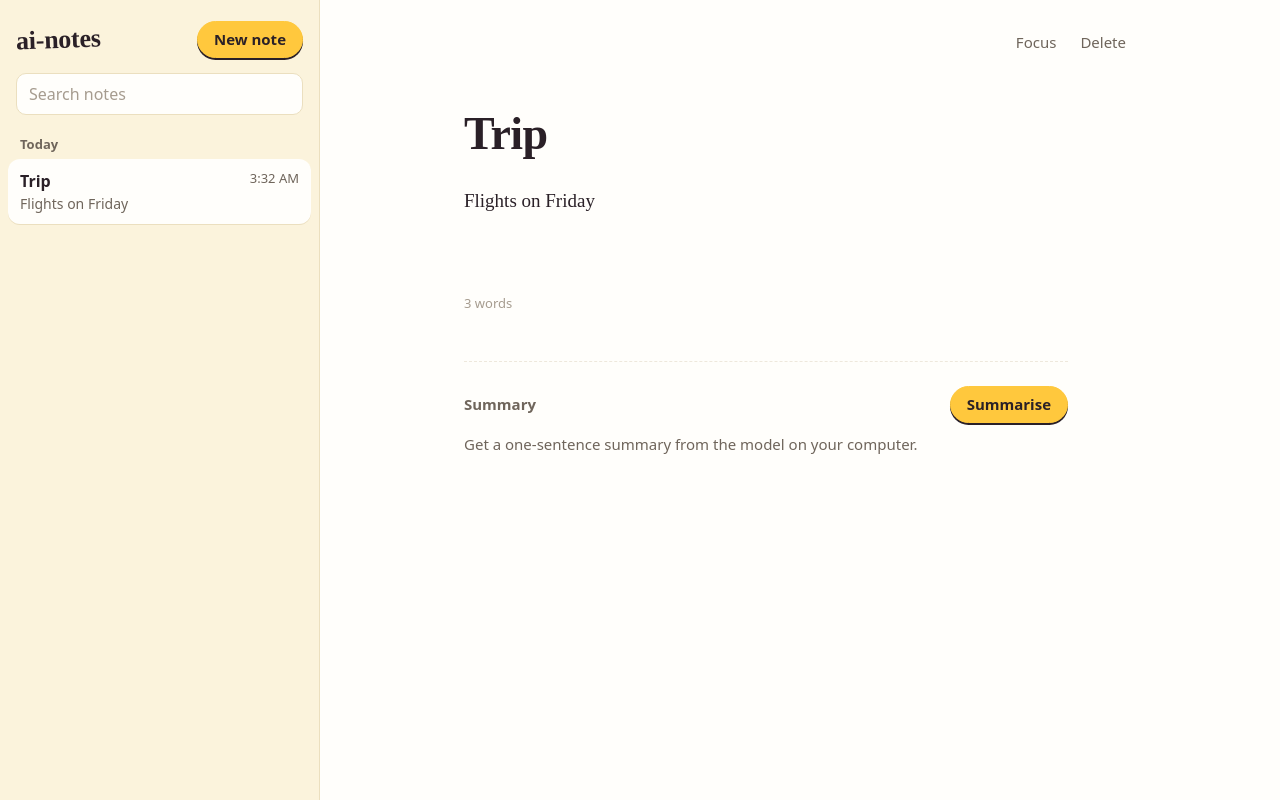
Scenario: summaries › summarises a note and marks the summary out of date after an edit
The width and height of the screenshot is (1280, 800).
Click the button "Summarise".
click(1009, 405)  # box x1=950 y1=386 x2=1068 y2=423
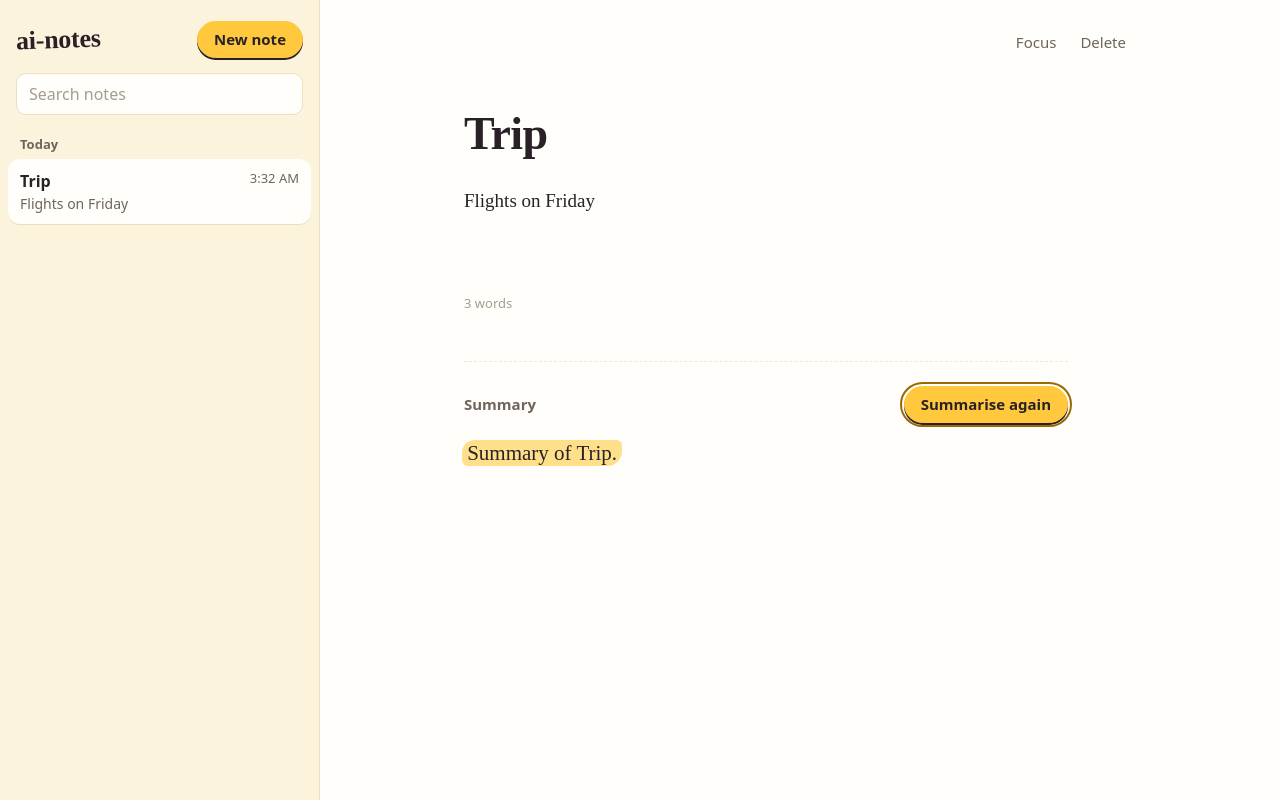
Expected: the text "out of date" is not shown
Expected: the text "Summary of Trip." is shown, x1=462 y1=440 x2=622 y2=466
Replace the text in the text box named "Note" with "Flights on Saturday" at (778, 233), box x1=464 y1=185 x2=1091 y2=282
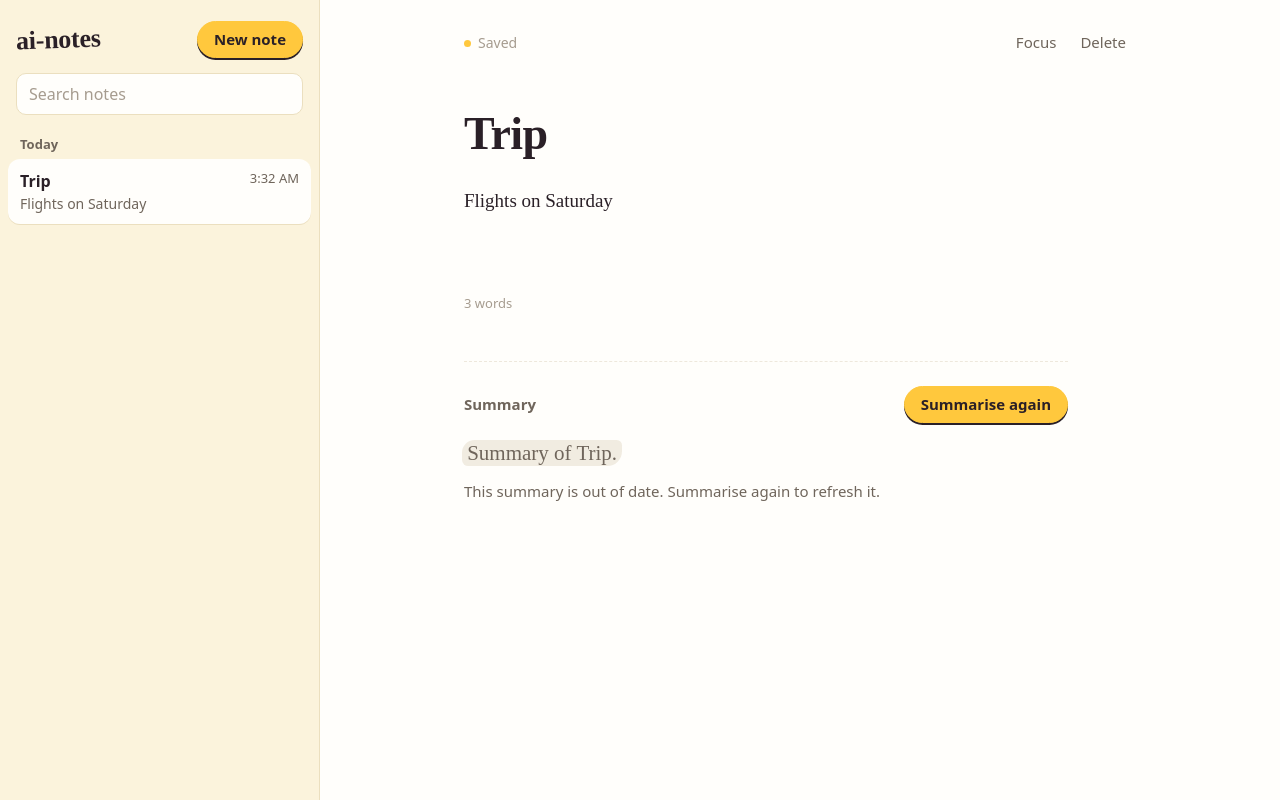
Expected: the button "Summarise again" is shown, x1=904 y1=386 x2=1068 y2=423
Expected: the text "This summary is out of date. Summarise again to refresh it." is shown, x1=464 y1=482 x2=880 y2=502
